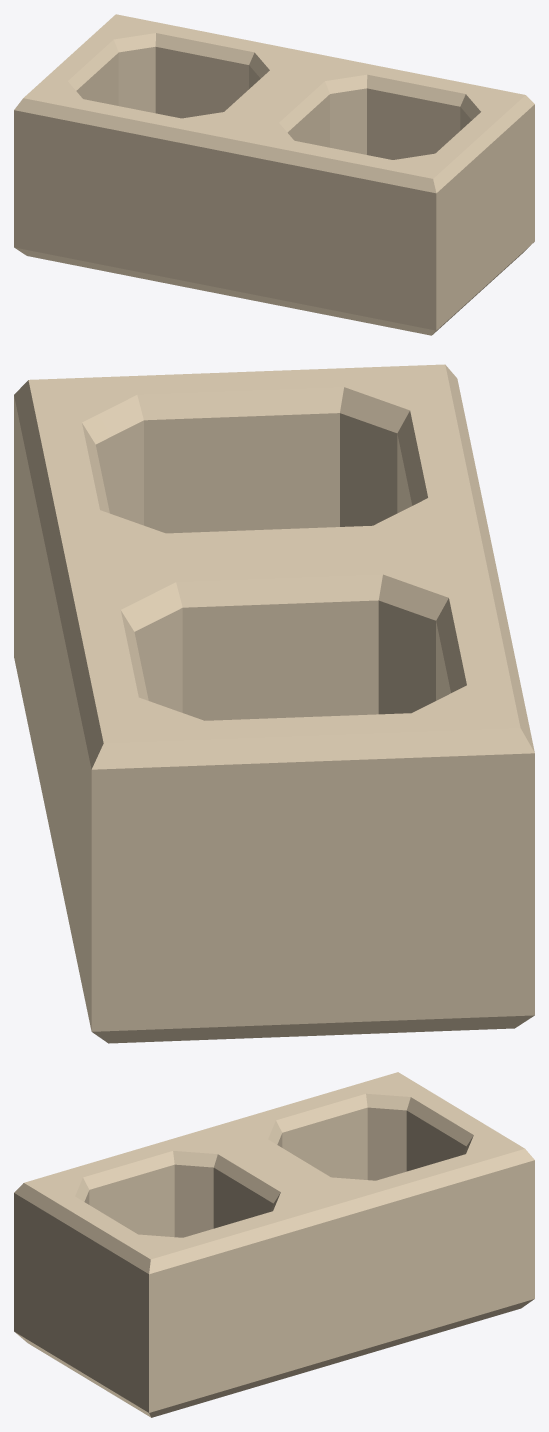
File: brick_a.gltf
3 views of the same model, one above another, from view 1: azimuth 30°, elevation 25°; view 2: azimuth 150°, elevation 25°; view 3: azimuth 270°, elevation 25° (orthographic). The views are drawn at different scales.
Parts seen in each view (by area): view 1: brick_a001; view 2: brick_a001; view 3: brick_a001.
Part boxes in pixels (box(x1,y1,x2,y2)): brick_a001: box(14, 14, 534, 335); brick_a001: box(14, 364, 534, 1043); brick_a001: box(14, 1072, 534, 1417).
Bounding box in the file's own units: 0.3933 × 0.1499 × 0.4424.
1 material, 1 textured.
